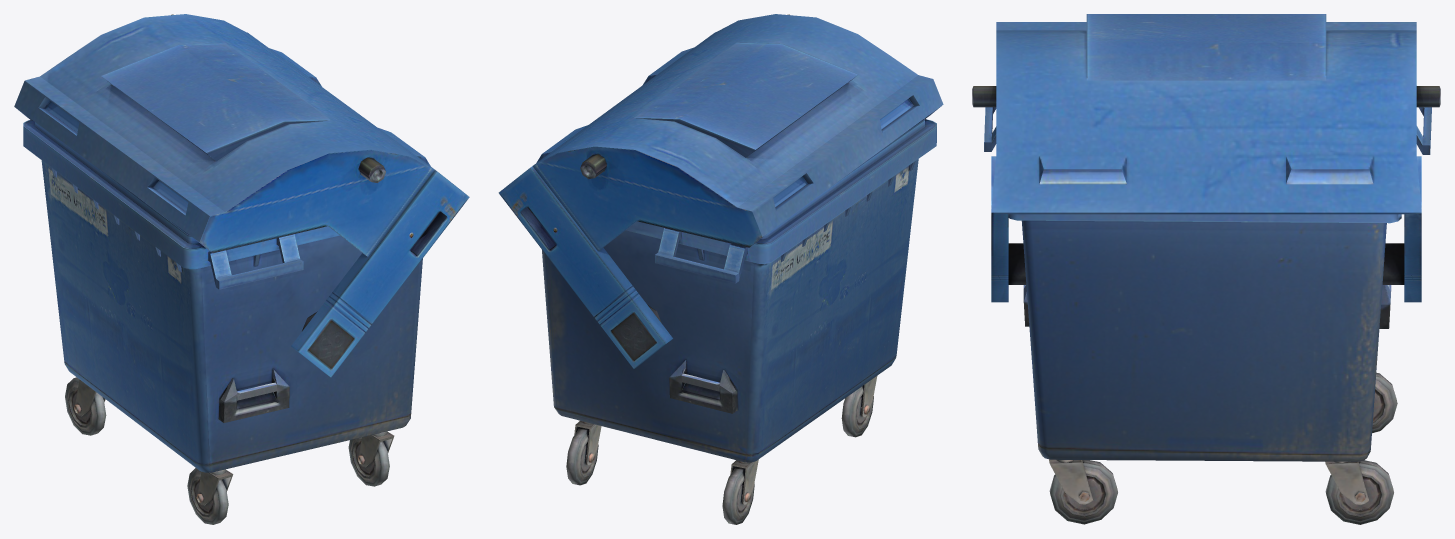
Rendered from GarbageFinal.glb.
3 views of the same model, side by side, from view 1: azimuth 30°, elevation 25°; view 2: azimuth 150°, elevation 25°; view 3: azimuth 270°, elevation 25° (orthographic). The views are drawn at different scales.
Visible parts, largest first — view 1: Cube.008; view 2: Cube.008; view 3: Cube.008.
Boxes of the visible parts, box(x1,y1,x2,y2) form: Cube.008: box(14, 14, 469, 524); Cube.008: box(498, 14, 943, 524); Cube.008: box(972, 14, 1440, 524).
Bounding box in the file's own units: 2.59 × 3.46 × 3.39.
1 material, 1 textured.
